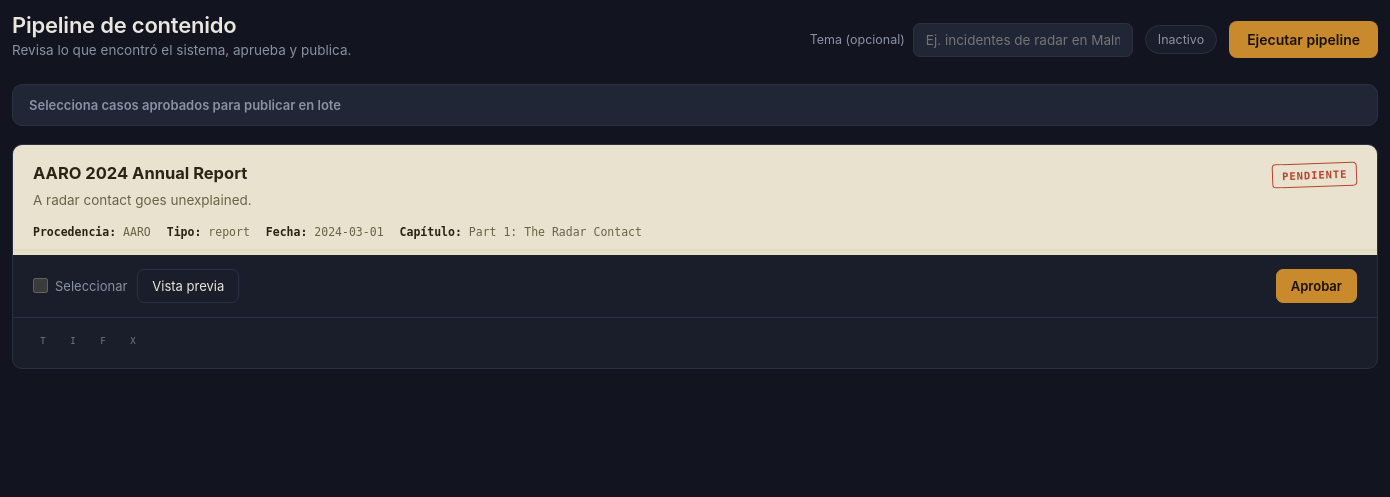
expanding the preview shows the chapter script and hashtags
The width and height of the screenshot is (1390, 497).
Check: the heading "AARO 2024 Annual Report" is shown, box [33, 163, 252, 184]
Check: the text "A pilot reported an unidentified radar contact." is not shown
What coordinates should you click on to do the following:
click the button "Vista previa"
I would click on:
 (188, 286)
Its box is [137, 269, 239, 303].
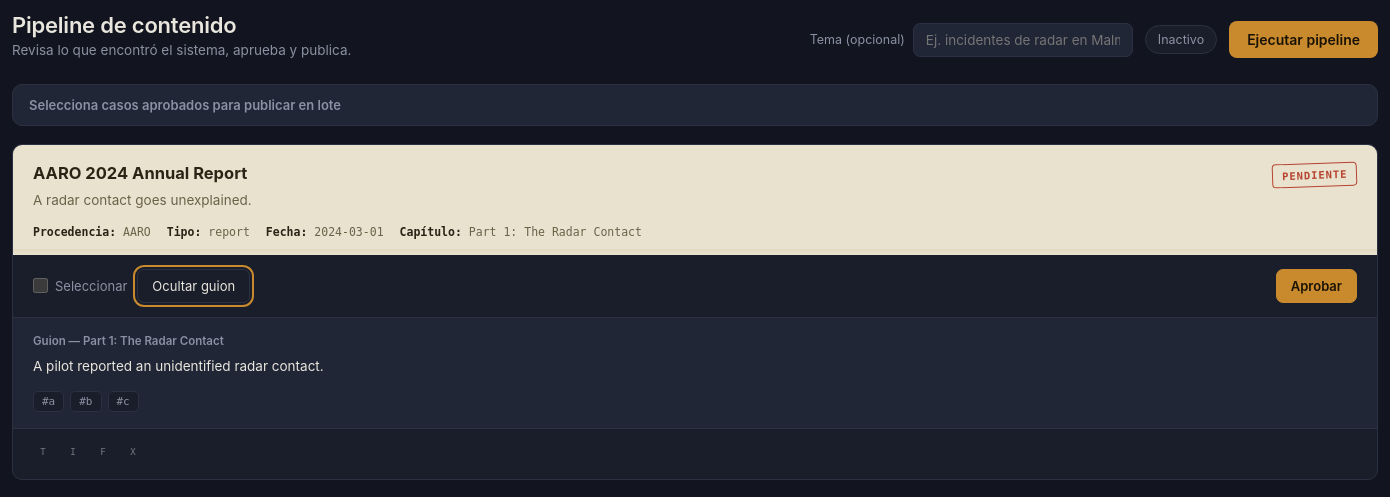
Check: the text "A pilot reported an unidentified radar contact." is shown, box [33, 358, 324, 374]
Check: the text "#a" is shown, box [33, 391, 64, 412]
Check: the text "#b" is shown, box [70, 391, 102, 412]
